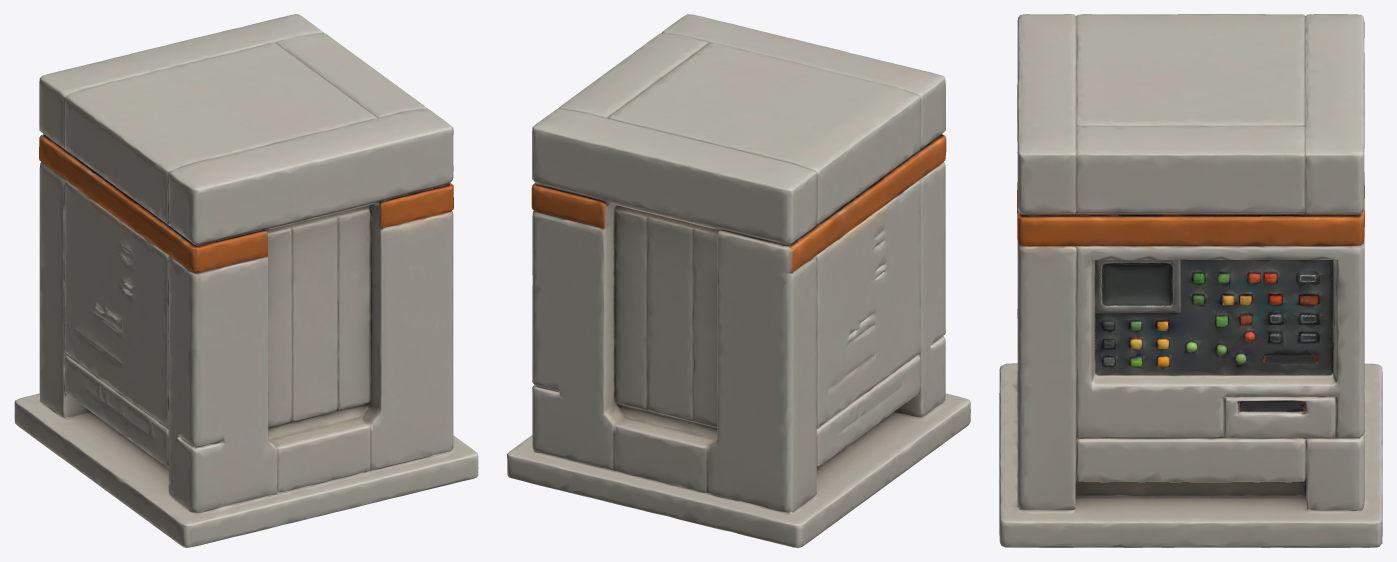
The picture shows the model from 3 angles, left to right: view 1: azimuth 30°, elevation 25°; view 2: azimuth 150°, elevation 25°; view 3: azimuth 270°, elevation 25°; orthographic projection. The views are drawn at different scales.
Parts seen in each view (by area): view 1: tripo_node_bc15bf3e-319a-4455-bf9c-5b2950d0e815; view 2: tripo_node_bc15bf3e-319a-4455-bf9c-5b2950d0e815; view 3: tripo_node_bc15bf3e-319a-4455-bf9c-5b2950d0e815.
Boxes of the visible parts, box(x1,y1,x2,y2) form: tripo_node_bc15bf3e-319a-4455-bf9c-5b2950d0e815: box(14, 14, 478, 547); tripo_node_bc15bf3e-319a-4455-bf9c-5b2950d0e815: box(507, 14, 970, 547); tripo_node_bc15bf3e-319a-4455-bf9c-5b2950d0e815: box(999, 14, 1382, 547).
Size of the model in its own units: 0.8804 by 1 by 0.8942.
Materials: 1 (1 with a texture image).
